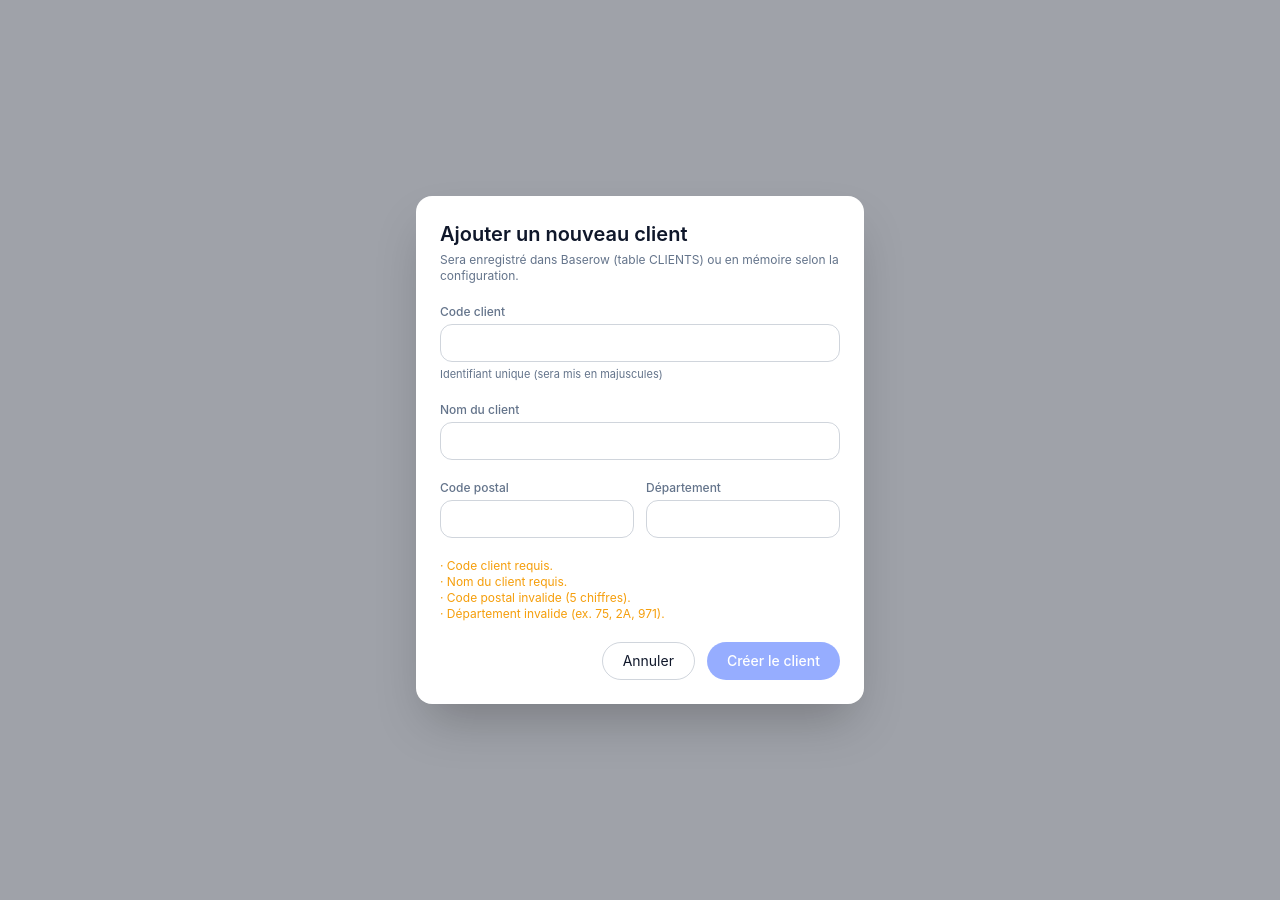
Test: NewClientModal › auto-derives the department from the postal code
Check: the field labelled "Département" is empty, box [646,500,840,538]
Step 1. Type "69001" into the field labelled "Code postal" → (537, 519), box [440,500,634,538]
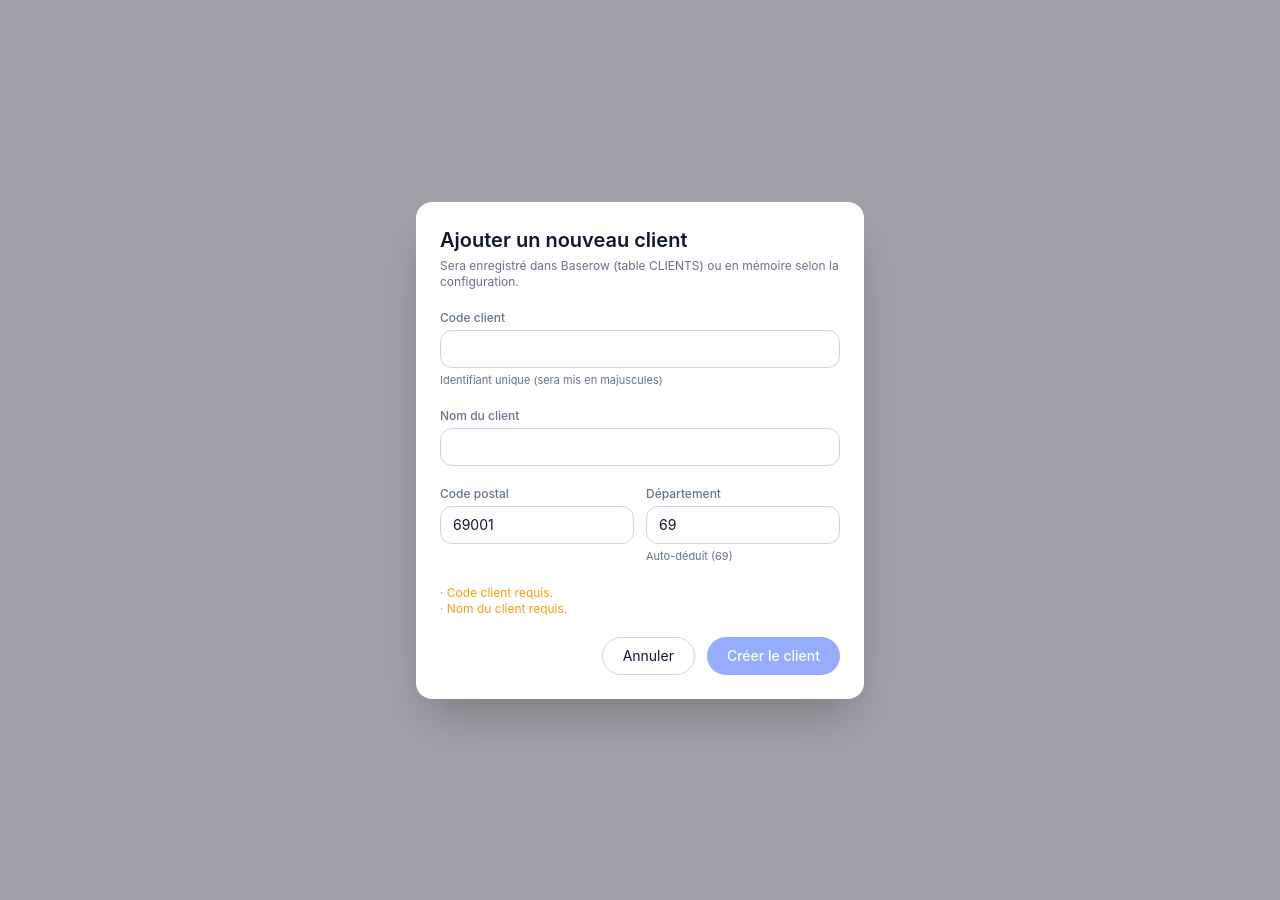
Check: the field labelled "Département" holds "69", box [646,506,840,544]
Step 2. Replace the text in the field labelled "Code postal" with "20100" → (537, 525), box [440,506,634,544]
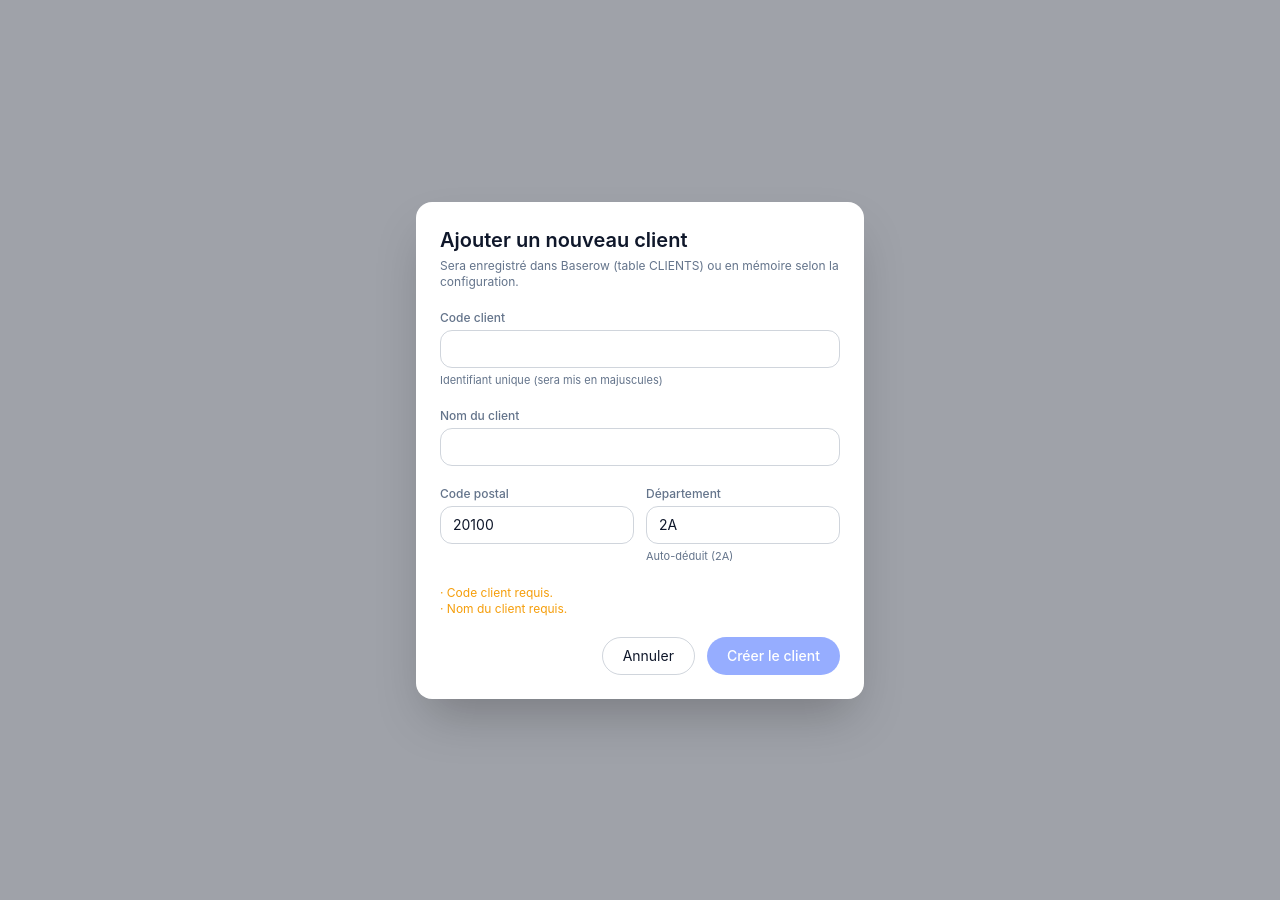
Check: the field labelled "Département" holds "2A", box [646,506,840,544]
